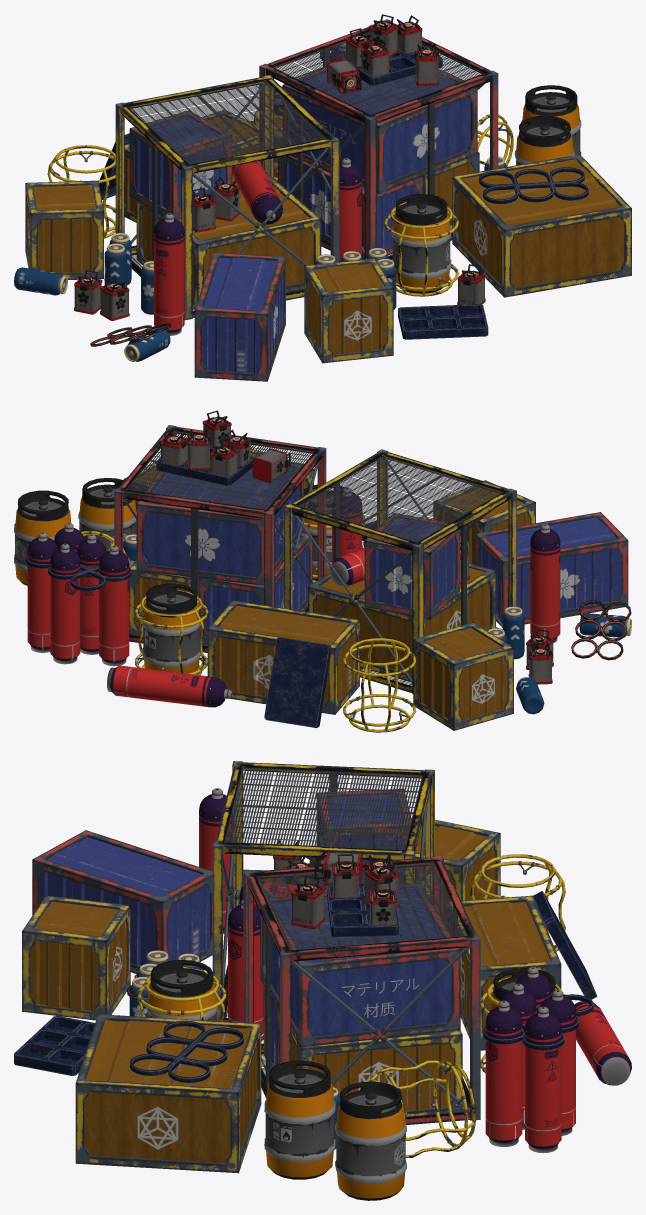
3 views of the same model, one above another, from view 1: azimuth 30°, elevation 25°; view 2: azimuth 150°, elevation 25°; view 3: azimuth 270°, elevation 25° (orthographic). The views are drawn at different scales.
Visible parts, largest first — view 1: Pack_Containers; view 2: Pack_Containers; view 3: Pack_Containers.
Boxes of the visible parts, bbox=[...] form: Pack_Containers: bbox=[14, 14, 631, 381]; Pack_Containers: bbox=[14, 410, 631, 732]; Pack_Containers: bbox=[14, 761, 631, 1200].
Bounding box in the file's own units: 10.68 × 3.58 × 8.69.
11 materials, 11 textured.
